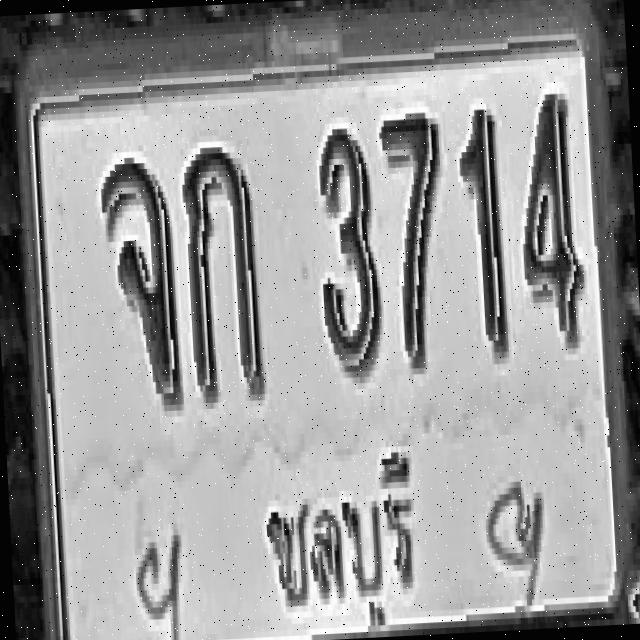1: (456, 103, 509, 360)
10GorGai: (182, 140, 266, 403)
17ChorChan: (98, 153, 184, 411)
3: (314, 122, 384, 380)
4: (515, 90, 585, 348)
7: (378, 110, 451, 372)
Chonburi: (248, 439, 426, 640)
